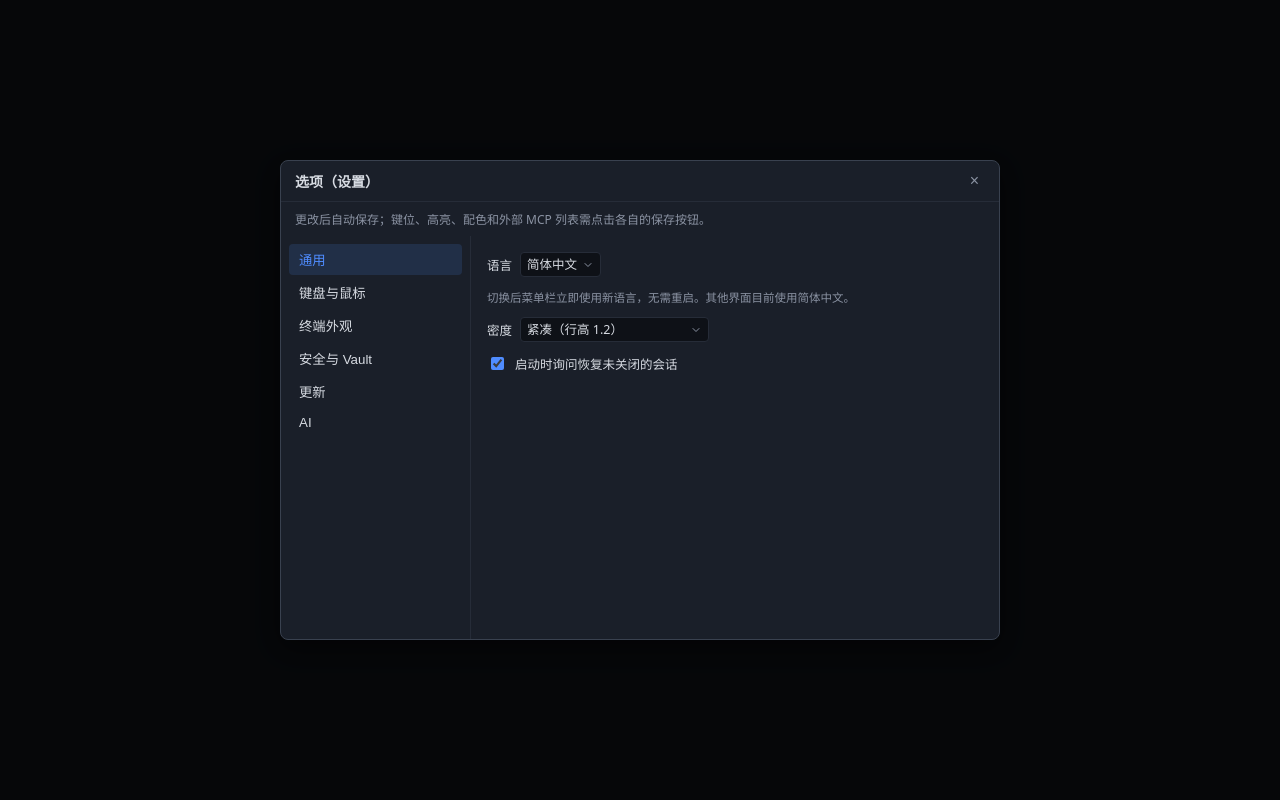
Test case: SettingsDialog 设置回读 › 重启后沙箱根目录显示库里的路径，而非空
Click the tab "安全与 Vault". click: click(376, 358)
box: [289,343,462,374]
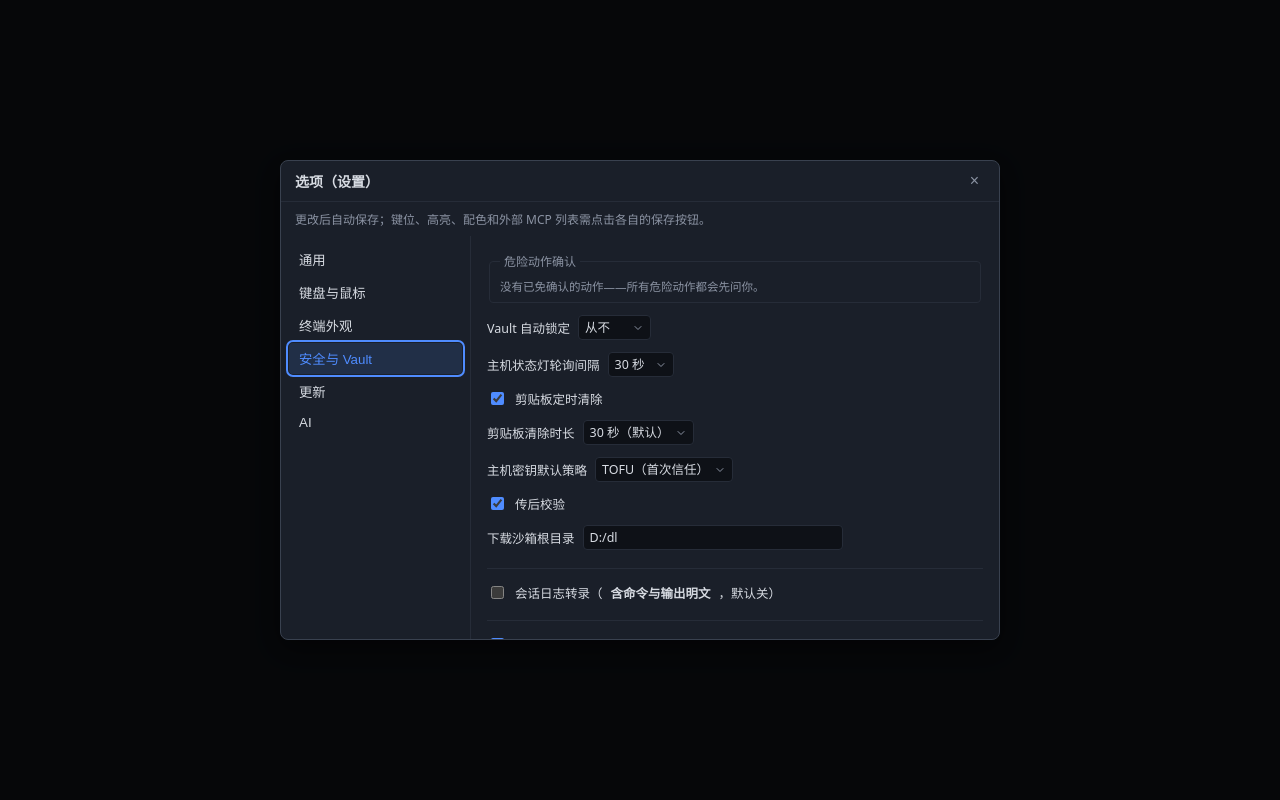
Check: the field with test id "set-sandbox-root" holds "D:/dl", box [582,525,842,550]
